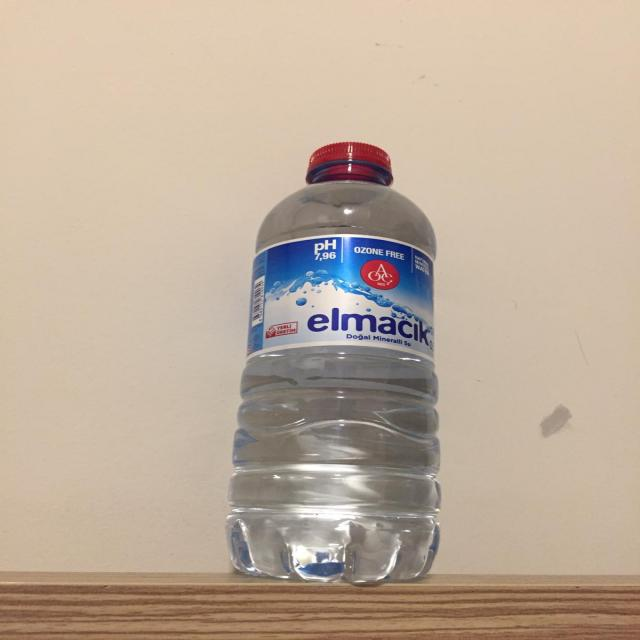bottle: (188, 125, 489, 624)
